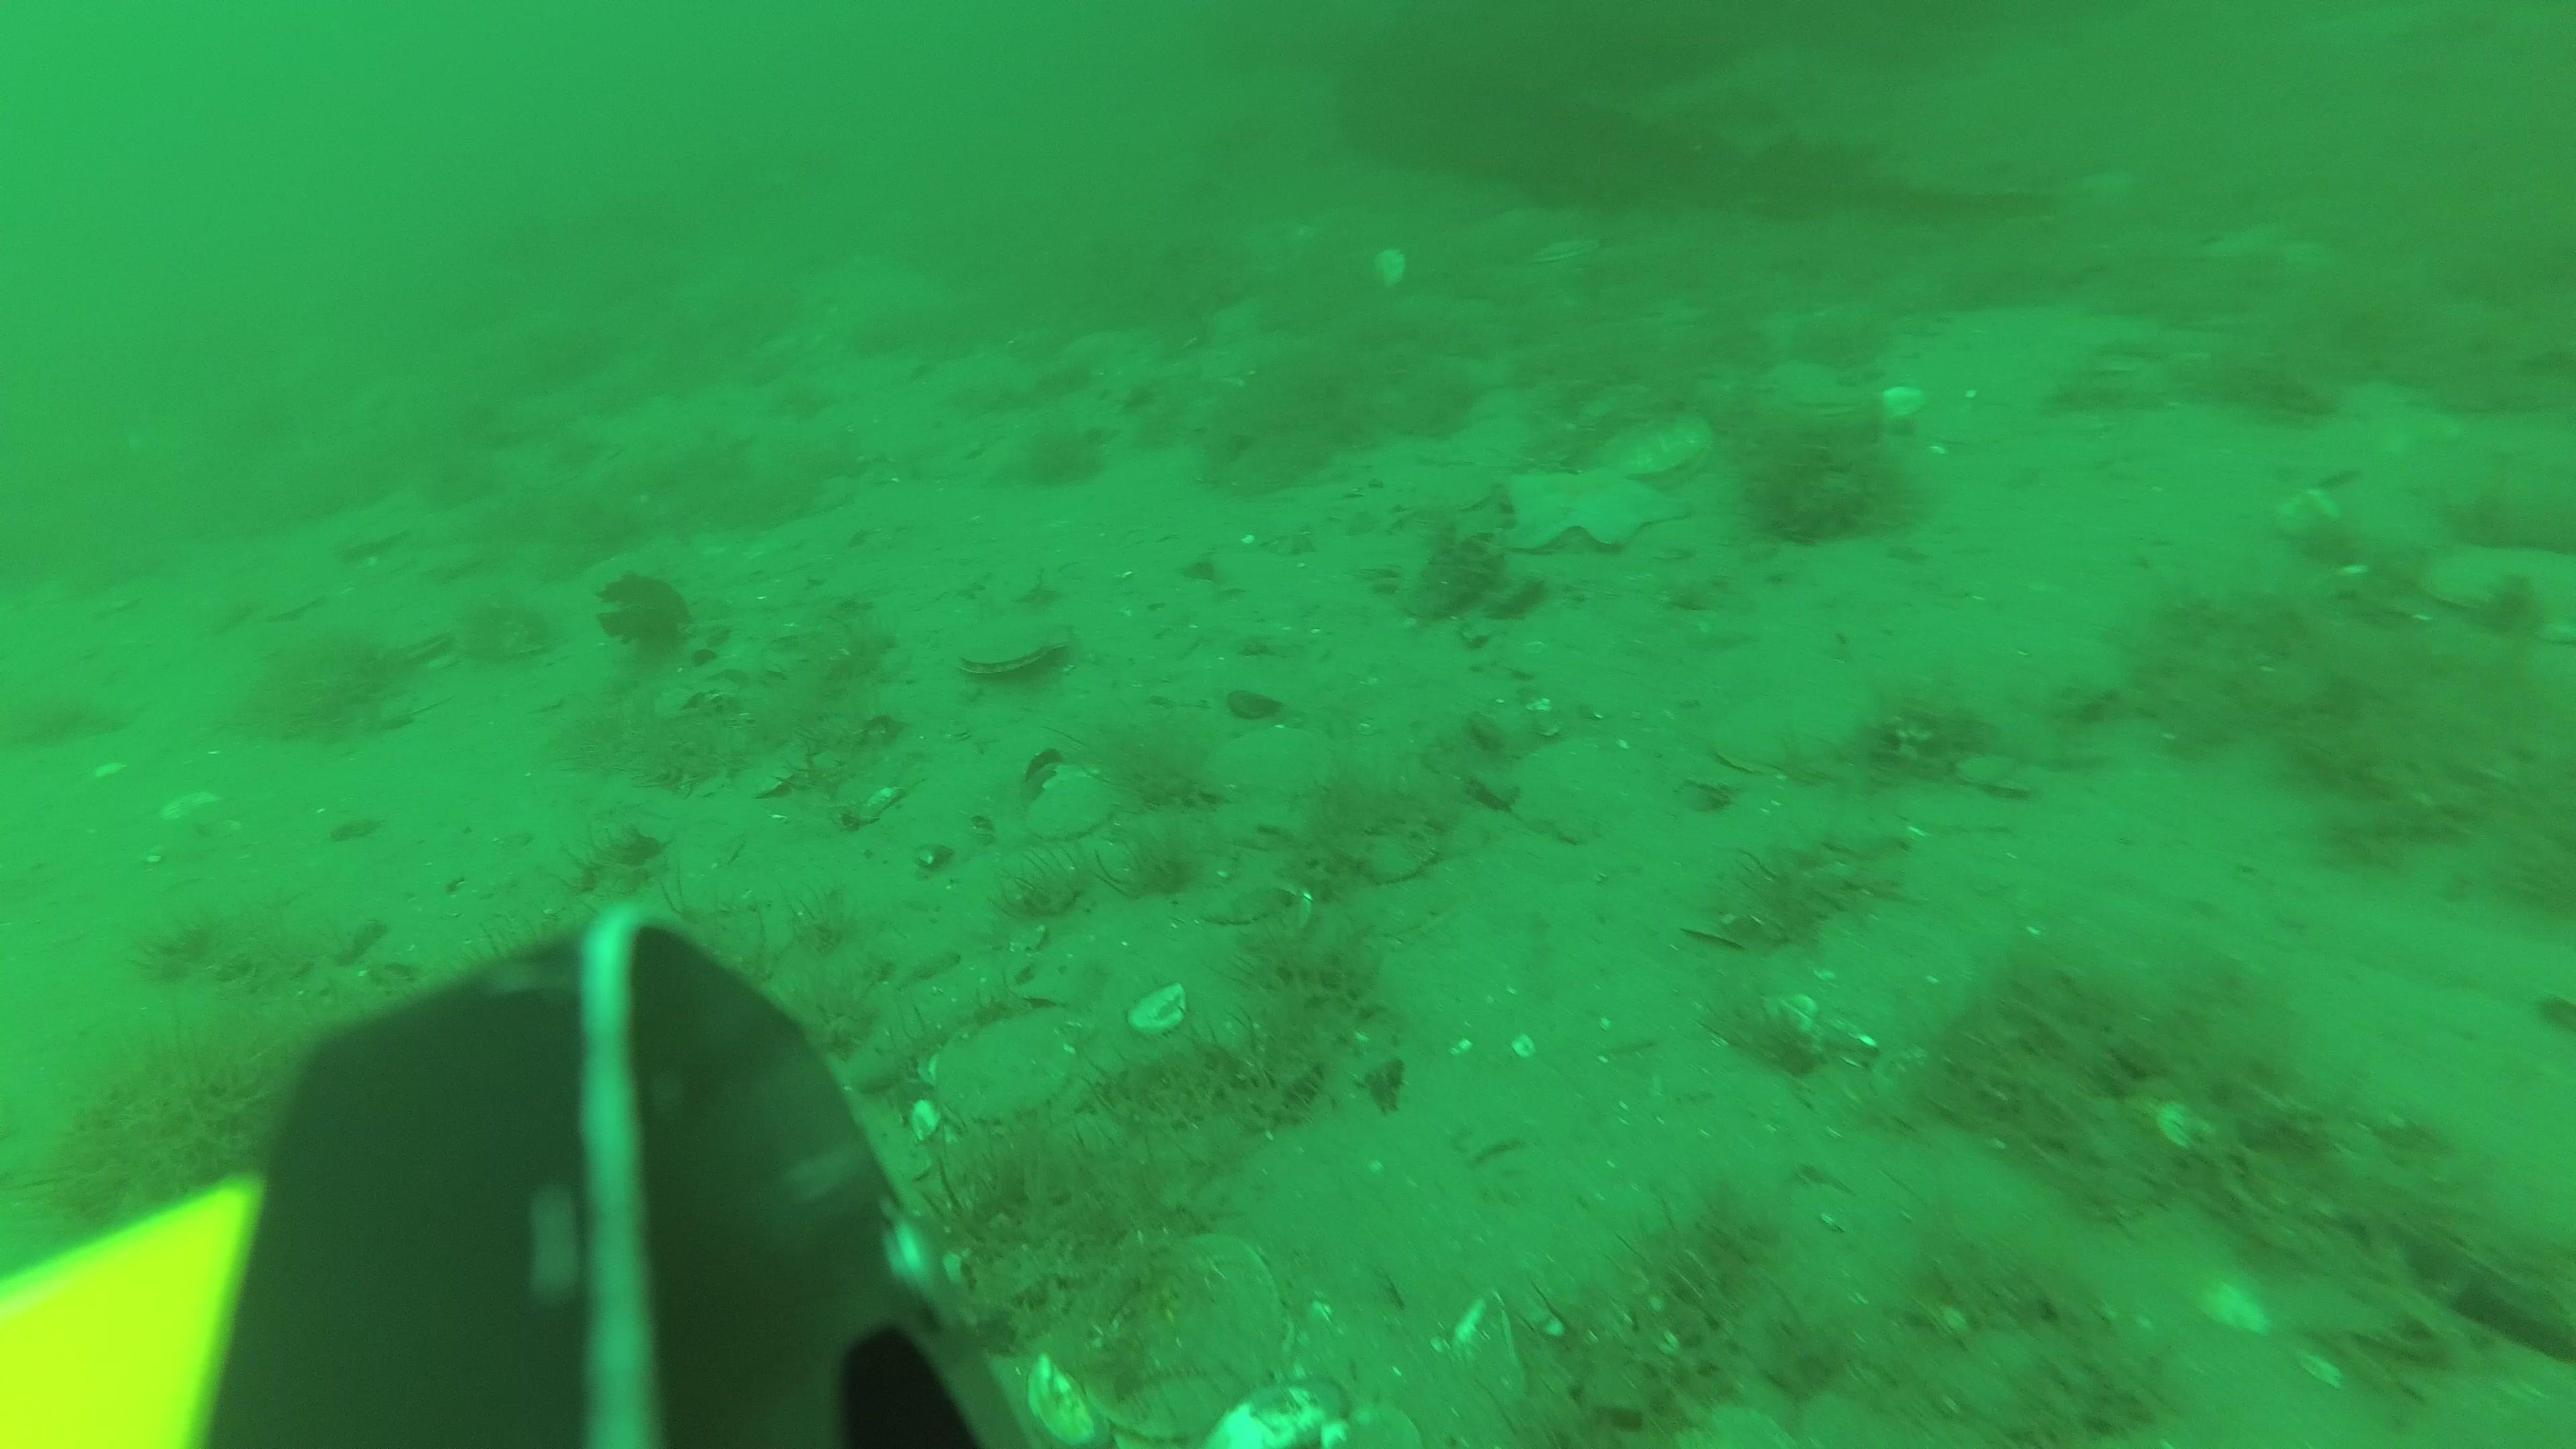scallop: (1047, 1228, 1297, 1433), (934, 1019, 1111, 1136), (2419, 534, 2576, 639), (1748, 349, 1870, 423), (955, 607, 1076, 681), (1608, 409, 1713, 478), (1530, 234, 1608, 265), (1371, 246, 1408, 288)
starfish: (1504, 458, 1684, 552)
